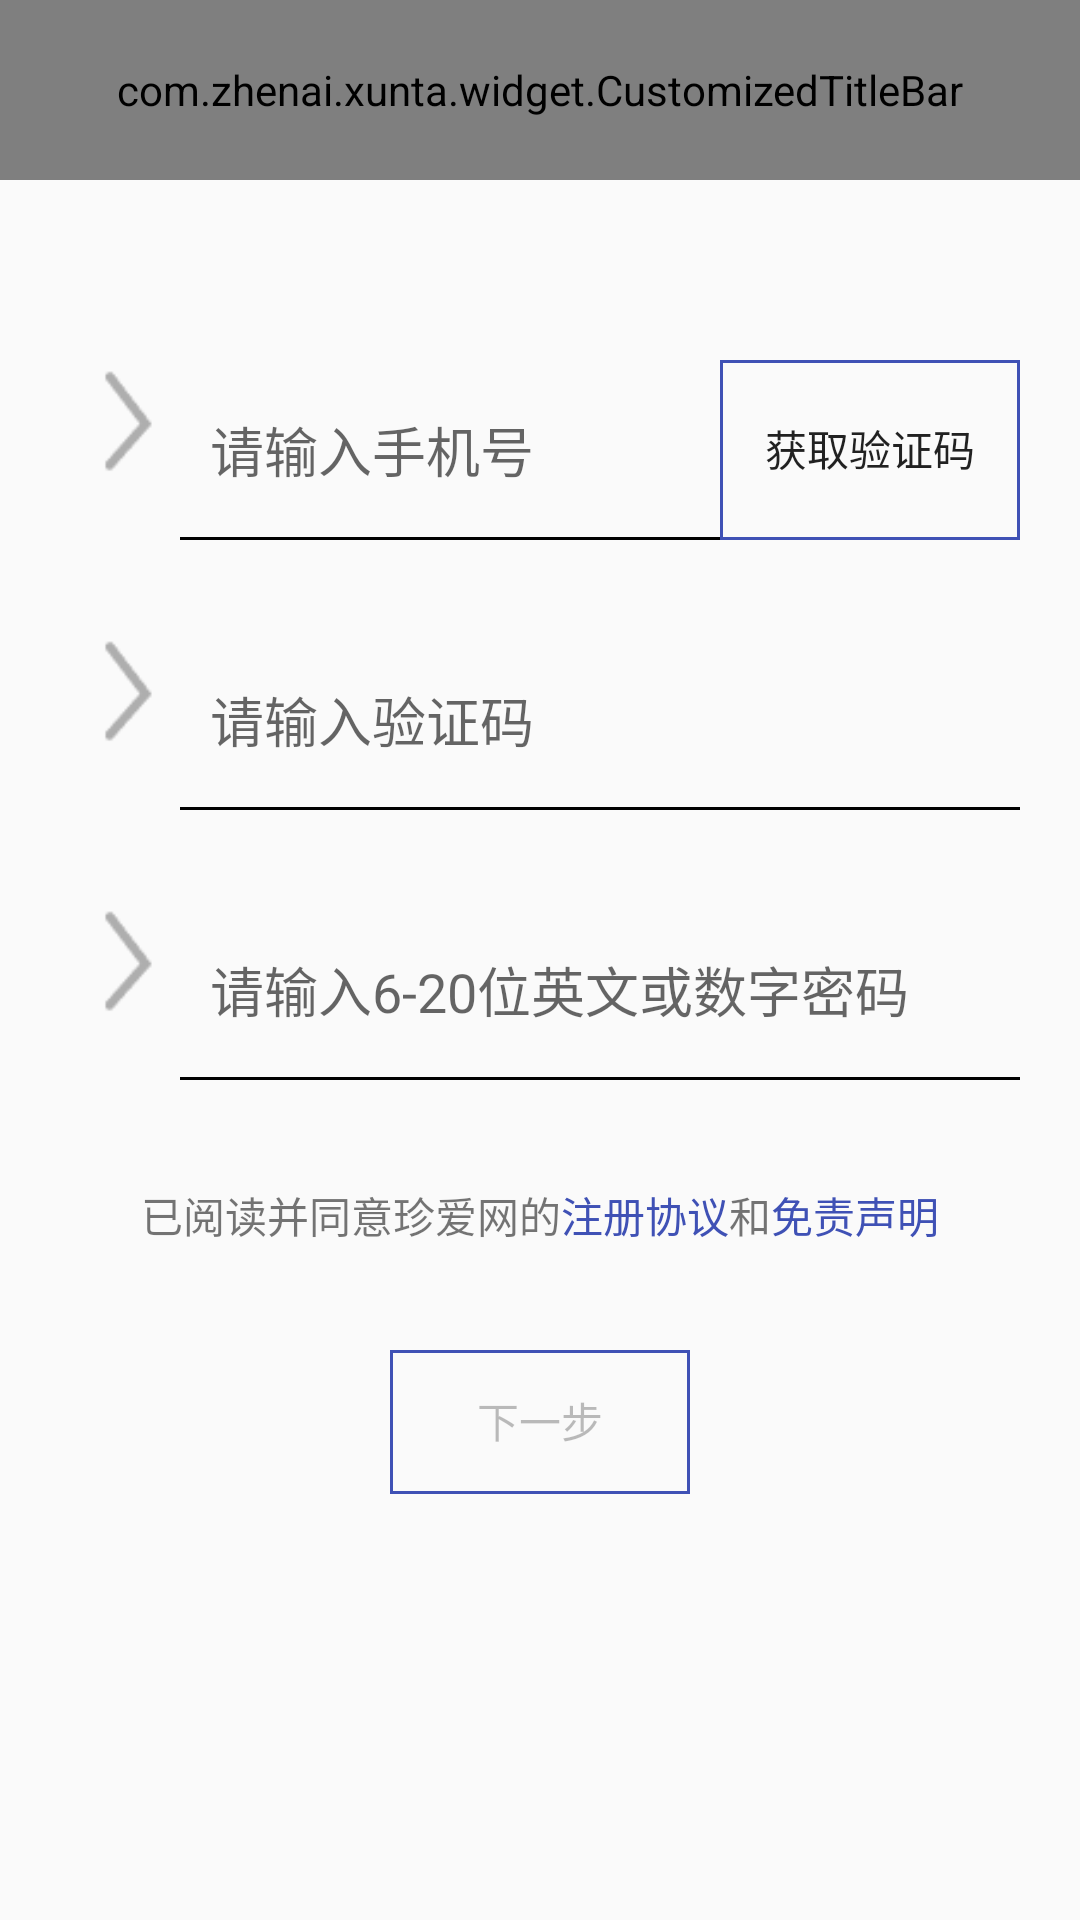

Where to tap for icons on this 1080 x 1920 app screen, as (x=x, y=y):
arrow: (x=128, y=421), (x=128, y=691), (x=128, y=961)
